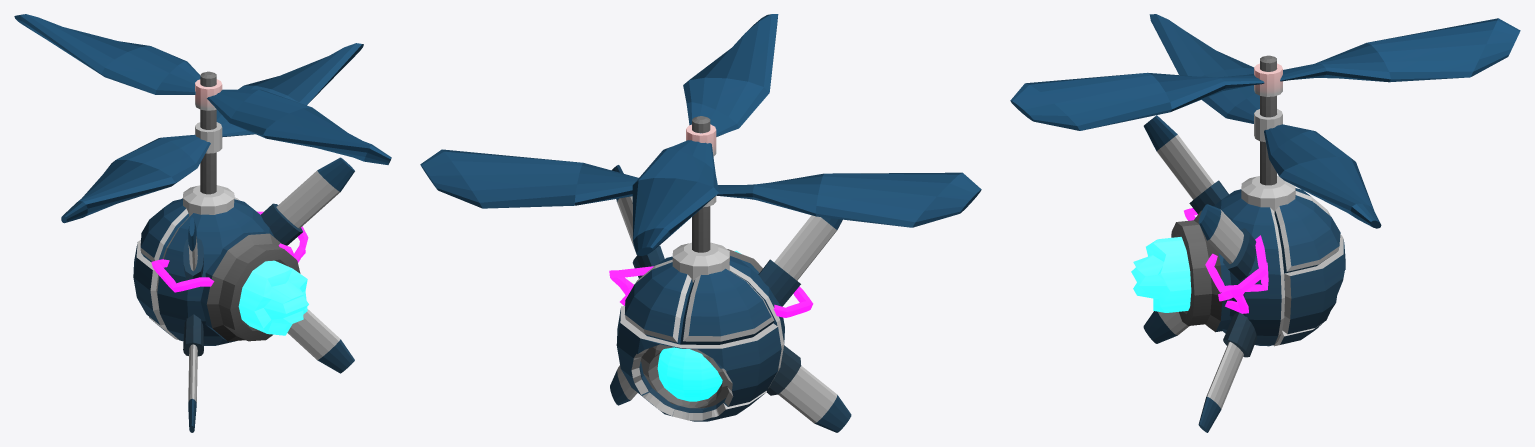
Rendered from dronee.fbx.
3 renders of one model, left to right at view 1: azimuth 30°, elevation 25°; view 2: azimuth 150°, elevation 25°; view 3: azimuth 270°, elevation 25°, orthographic. The views are drawn at different scales.
Parts seen in each view (by area): view 1: Cylinder.003, Cylinder.001; view 2: Cylinder.003, Cylinder.001; view 3: Cylinder.003, Cylinder.001.
Part boxes in pixels (left/top/right/bottom): Cylinder.003: left=133, top=71, right=354, bottom=432; Cylinder.001: left=14, top=14, right=391, bottom=223; Cylinder.003: left=609, top=116, right=851, bottom=432; Cylinder.001: left=420, top=14, right=981, bottom=255; Cylinder.003: left=1131, top=55, right=1345, bottom=432; Cylinder.001: left=1010, top=14, right=1520, bottom=228.
Size of the model in its own units: 655 by 475 by 682.
1 material, 1 textured.
